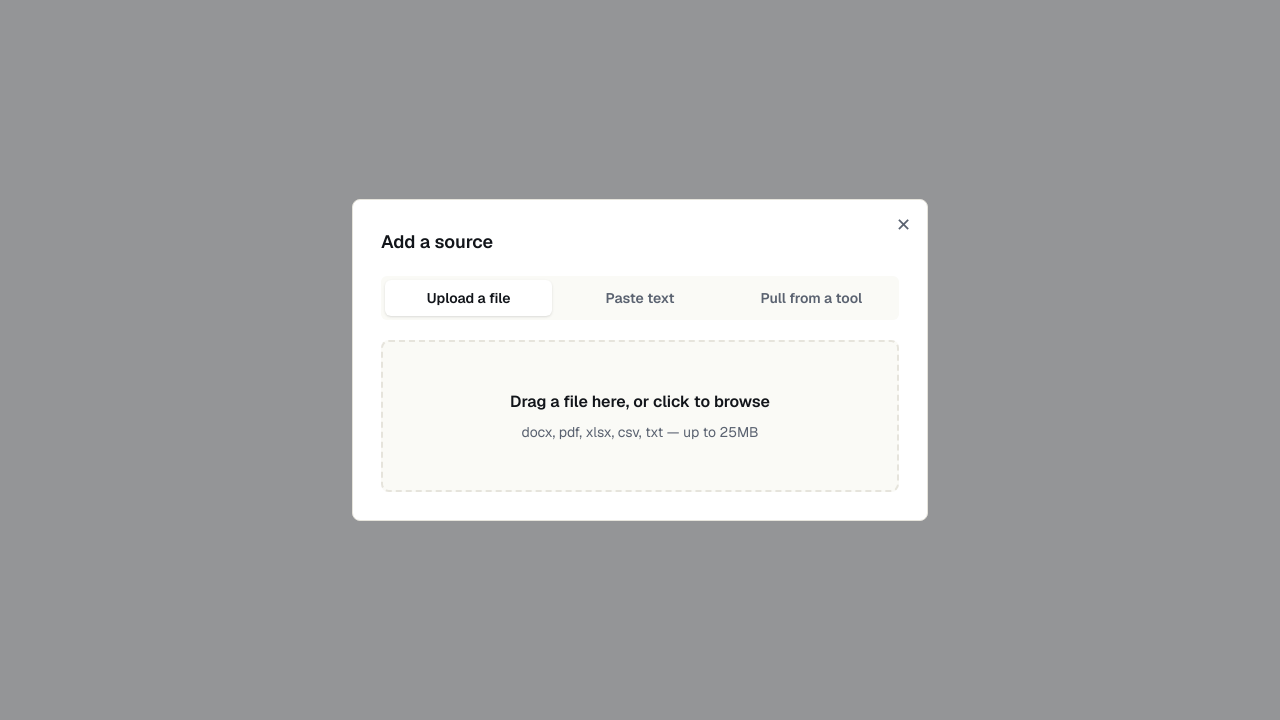
Test case: AddSourceModal › shows a helpful empty state on the connector tab when nothing is connected
The width and height of the screenshot is (1280, 720).
Click the button "Pull from a tool".
click(811, 298)  # box [728,280,895,316]
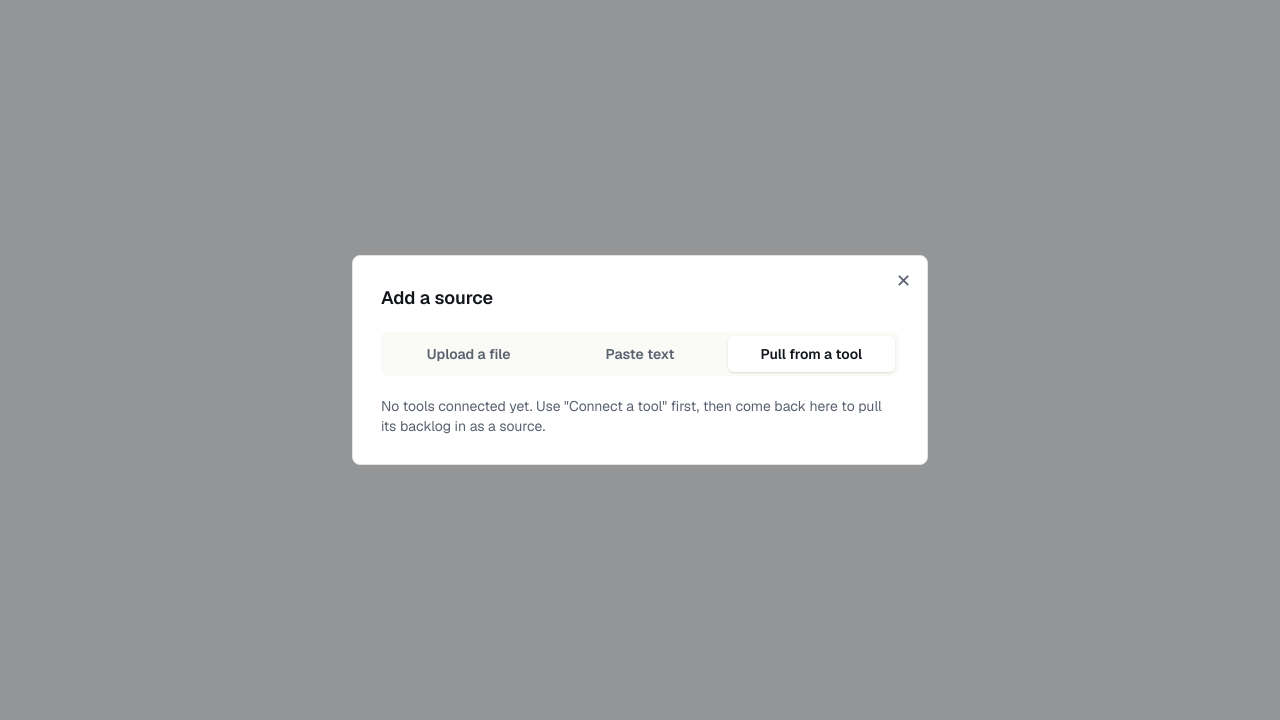
Check: the text "No tools connected yet" is shown, box [381,397,882,435]
